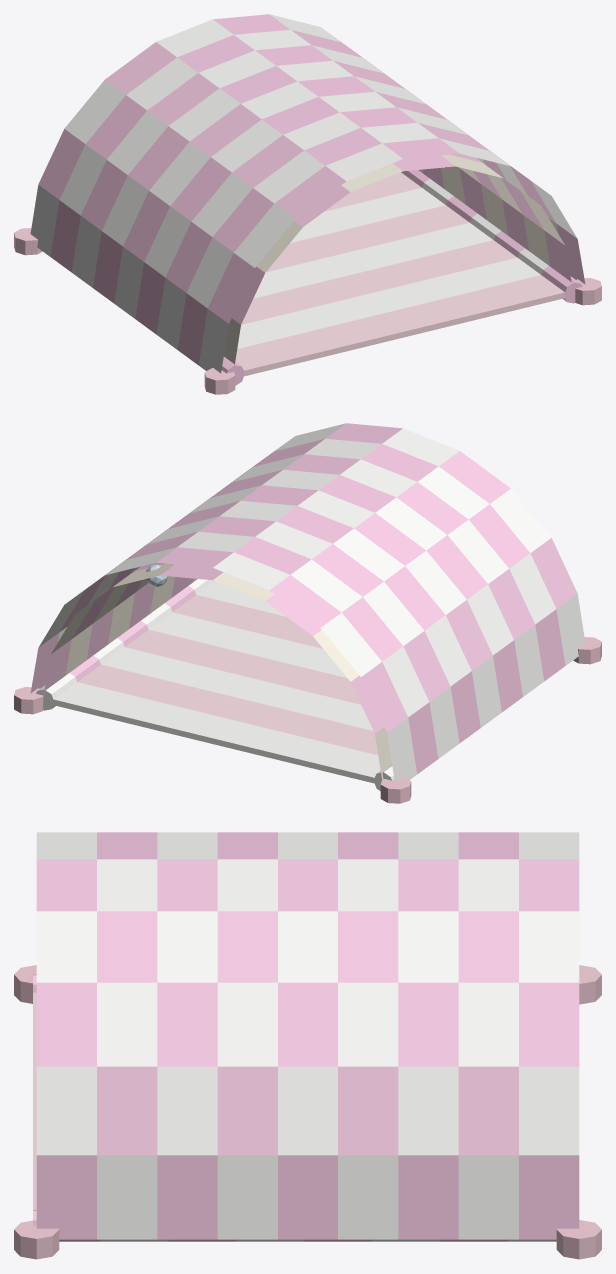
File: draha_tunel.glb
The picture shows the model from 3 angles, top to bottom: view 1: azimuth 30°, elevation 25°; view 2: azimuth 150°, elevation 25°; view 3: azimuth 270°, elevation 25°; orthographic projection. The views are drawn at different scales.
Parts seen in each view (by area): view 1: DrahaTunel_white, DrahaTunel_lol, DrahaTunel_pink, DrahaTunel_cream, DrahaTunel_pink2; view 2: DrahaTunel_white, DrahaTunel_lol, DrahaTunel_pink, DrahaTunel_cream, DrahaTunel_pink2; view 3: DrahaTunel_lol, DrahaTunel_white, DrahaTunel_pink2, DrahaTunel_pink.
Boxes of the visible parts, x1,y1,x2,y2 form: DrahaTunel_white: [30, 14, 577, 373]; DrahaTunel_lol: [38, 14, 585, 385]; DrahaTunel_pink: [235, 172, 564, 376]; DrahaTunel_cream: [224, 154, 564, 364]; DrahaTunel_pink2: [14, 228, 601, 394]; DrahaTunel_white: [36, 423, 585, 790]; DrahaTunel_lol: [30, 423, 577, 774]; DrahaTunel_pink: [78, 595, 377, 755]; DrahaTunel_cream: [51, 563, 391, 779]; DrahaTunel_pink2: [14, 637, 601, 803]; DrahaTunel_lol: [33, 832, 579, 1241]; DrahaTunel_white: [36, 832, 579, 1241]; DrahaTunel_pink2: [14, 965, 601, 1259]; DrahaTunel_pink: [33, 992, 36, 1210].
Size of the model in its own units: 8.6 by 3.86 by 7.8.
